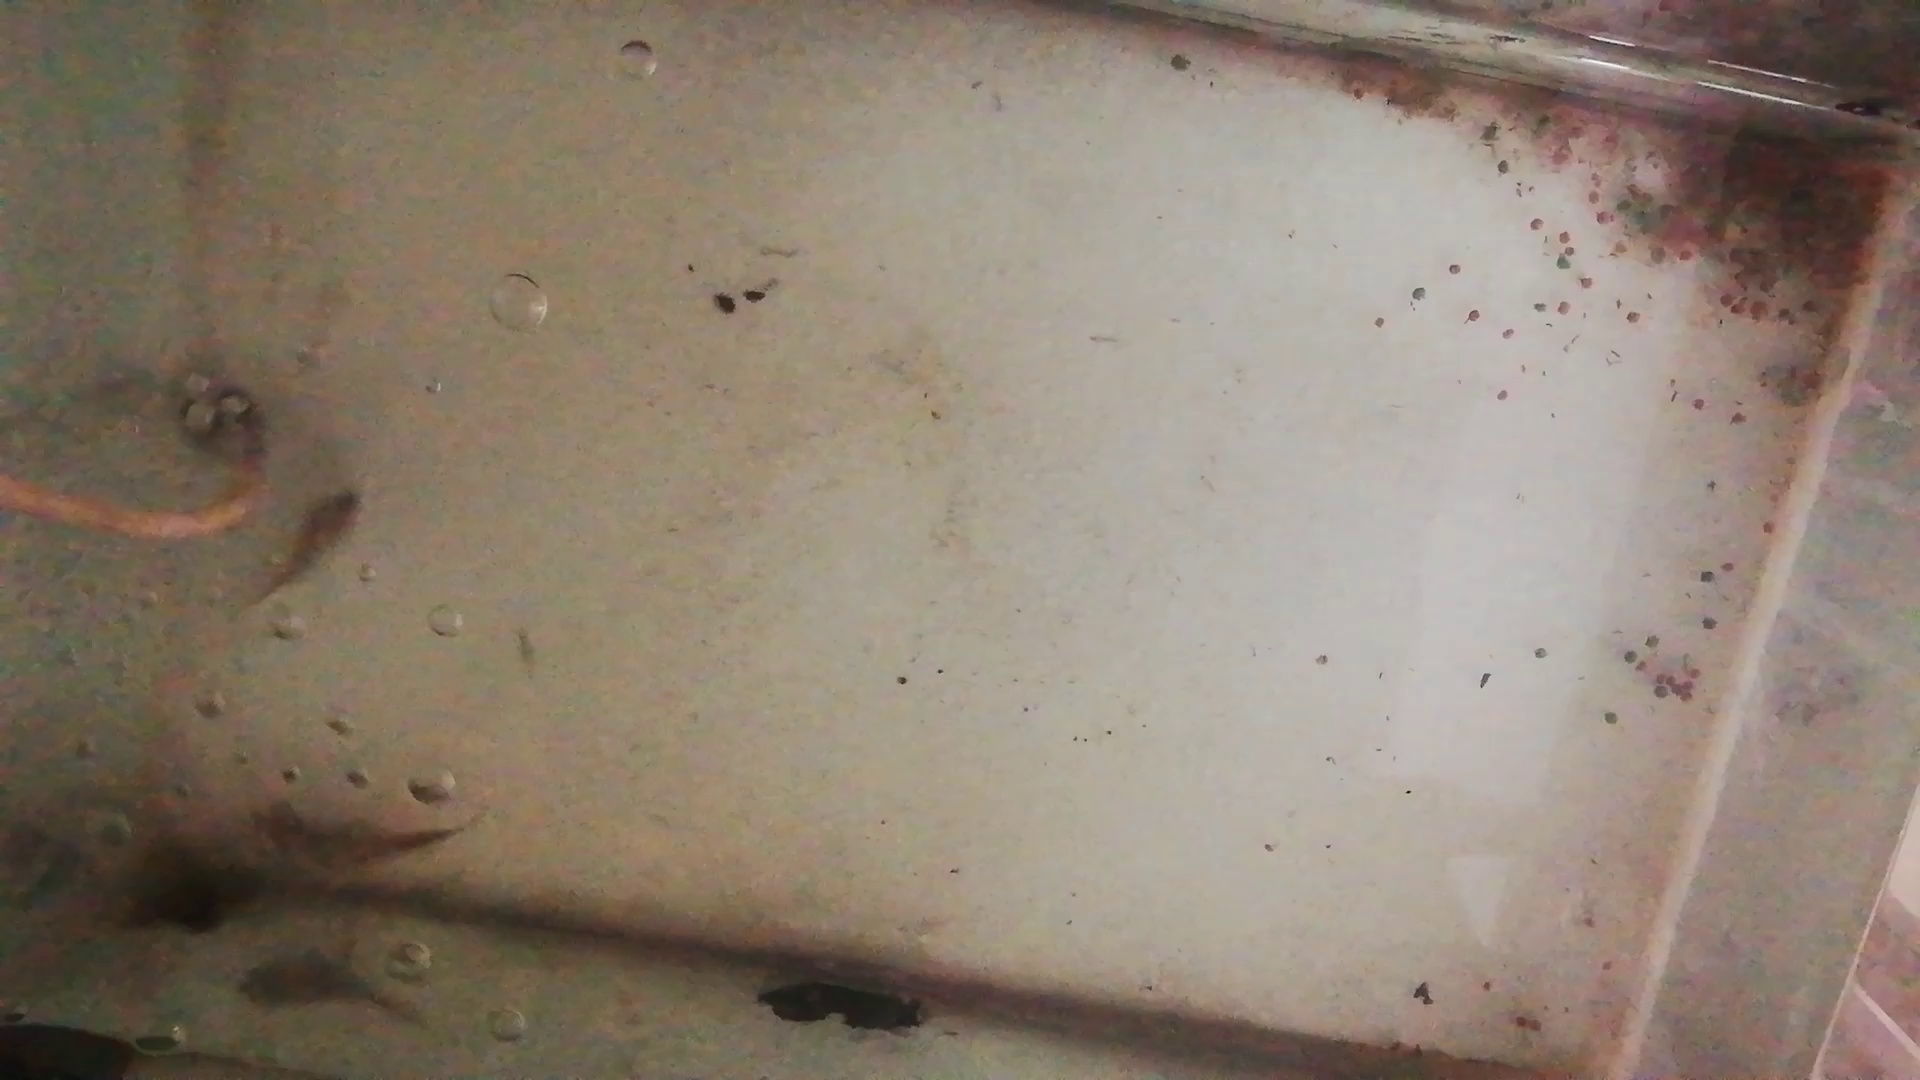fish: (244, 495, 375, 603), (245, 808, 469, 866)
